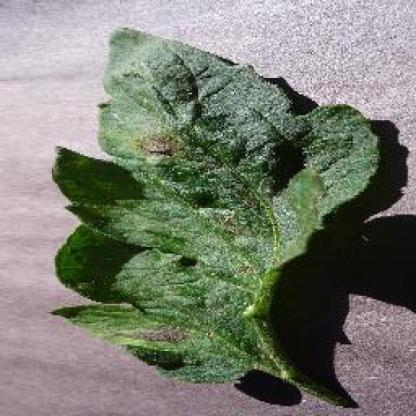Tomato_Blight: (54, 30, 376, 380)
